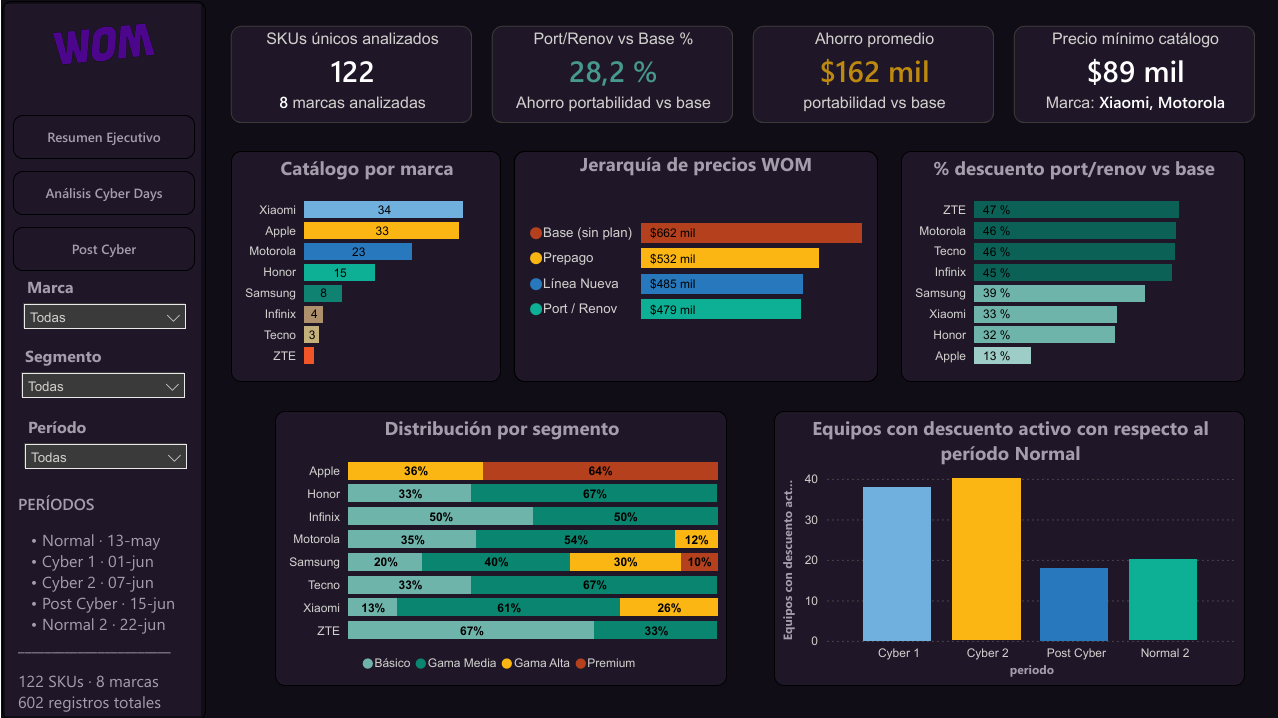

This screenshot's page, from the dashboard's own definition file:
{"tool":"powerbi","page":{"name":"Resumen","canvas":[1280,720],"ordinal":0},"visuals":[{"type":"shape","title":"sddasds","box":[511.5,150.4,364.6,230.1],"z":0},{"type":"cardVisual","fields":{"Data":["WOM.Total Equipos","WOM.Brecha Base vs Port %","WOM.Ahorro Absoluto Prom","WOM.KPI Precio Minimo"]},"box":[204.3,0,1075.7,146.5],"z":1000},{"type":"clusteredBarChart","title":"Jerarquía de precios WOM","fields":{"Y":["WOM.Precio Prom Base","WOM.Precio Prom Prepago","WOM.Precio Prom Linea Nueva","WOM.Precio Prom Port Renov"]},"box":[522.9,80.9,387.3,377.1],"z":2000},{"type":"barChart","title":"Catálogo por marca","fields":{"Y":["WOM.Total Equipos"],"Category":["WOM.marca1"],"Series":["WOM.marca1"]},"box":[229,150.4,270,230.1],"z":3000},{"type":"barChart","title":"% descuento port/renov vs base","fields":{"Y":["WOM.% Dto Port Renov vs Base"],"Category":["WOM.marca"]},"box":[898.9,150.4,344.1,230.1],"z":4000},{"type":"shape","box":[0,0,204.3,719.7],"z":5000},{"type":"shape","box":[11.4,113.9,181.1,44.4],"z":6000},{"type":"image","box":[10.3,12.9,182.5,60.4],"z":7000},{"type":"textbox","box":[11.4,471.6,183.4,248.4],"z":8000},{"type":"slicer","fields":{"Values":["WOM.marca"]},"box":[11.6,269.6,182.6,58],"z":9000},{"type":"slicer","fields":{"Values":["WOM.segmento"]},"box":[10.1,339.1,182.6,82.6],"z":10000},{"type":"hundredPercentStackedBarChart","title":"Distribución por segmento","fields":{"Y":["WOM.Total Equipos"],"Series":["WOM.segmento"],"Category":["WOM.marca"]},"box":[273.4,410.1,451.1,274.6],"z":11000},{"type":"slicer","fields":{"Values":["WOM.periodo"]},"box":[12.5,410.1,182.3,83.2],"z":12000},{"type":"shape","box":[11.4,169.7,181.1,44.4],"z":13000},{"type":"shape","box":[11.4,225.6,181.1,44.4],"z":14000},{"type":"columnChart","title":"Equipos con descuento activo con respecto al período Normal","fields":{"Category":["WOM.periodo"],"Y":["WOM.Equipos Con Descuento Activo2"],"Series":["WOM.periodo"]},"box":[772.4,410.1,470.5,274.6],"z":15000}]}

Visuals, with their boxes on the page's 1280x720 design canvas (x1, y1, x2, y2). These are canvas units, not pixel positions in the 1278x718 screenshot, which may show the page scaled, cropped or inside an application window:
"sddasds" shape: bbox=(512, 150, 876, 380)
cardVisual - WOM.Total Equipos x WOM.Brecha Base vs Port %: bbox=(204, 0, 1280, 146)
"Jerarquía de precios WOM" clusteredBarChart: bbox=(523, 81, 910, 458)
"Catálogo por marca" barChart: bbox=(229, 150, 499, 380)
"% descuento port/renov vs base" barChart: bbox=(899, 150, 1243, 380)
shape: bbox=(0, 0, 204, 720)
shape: bbox=(11, 114, 192, 158)
image: bbox=(10, 13, 193, 73)
textbox: bbox=(11, 472, 195, 720)
slicer - WOM.marca: bbox=(12, 270, 194, 328)
slicer - WOM.segmento: bbox=(10, 339, 193, 422)
"Distribución por segmento" hundredPercentStackedBarChart: bbox=(273, 410, 724, 685)
slicer - WOM.periodo: bbox=(12, 410, 195, 493)
shape: bbox=(11, 170, 192, 214)
shape: bbox=(11, 226, 192, 270)
"Equipos con descuento activo con respecto al período Normal" columnChart: bbox=(772, 410, 1243, 685)
